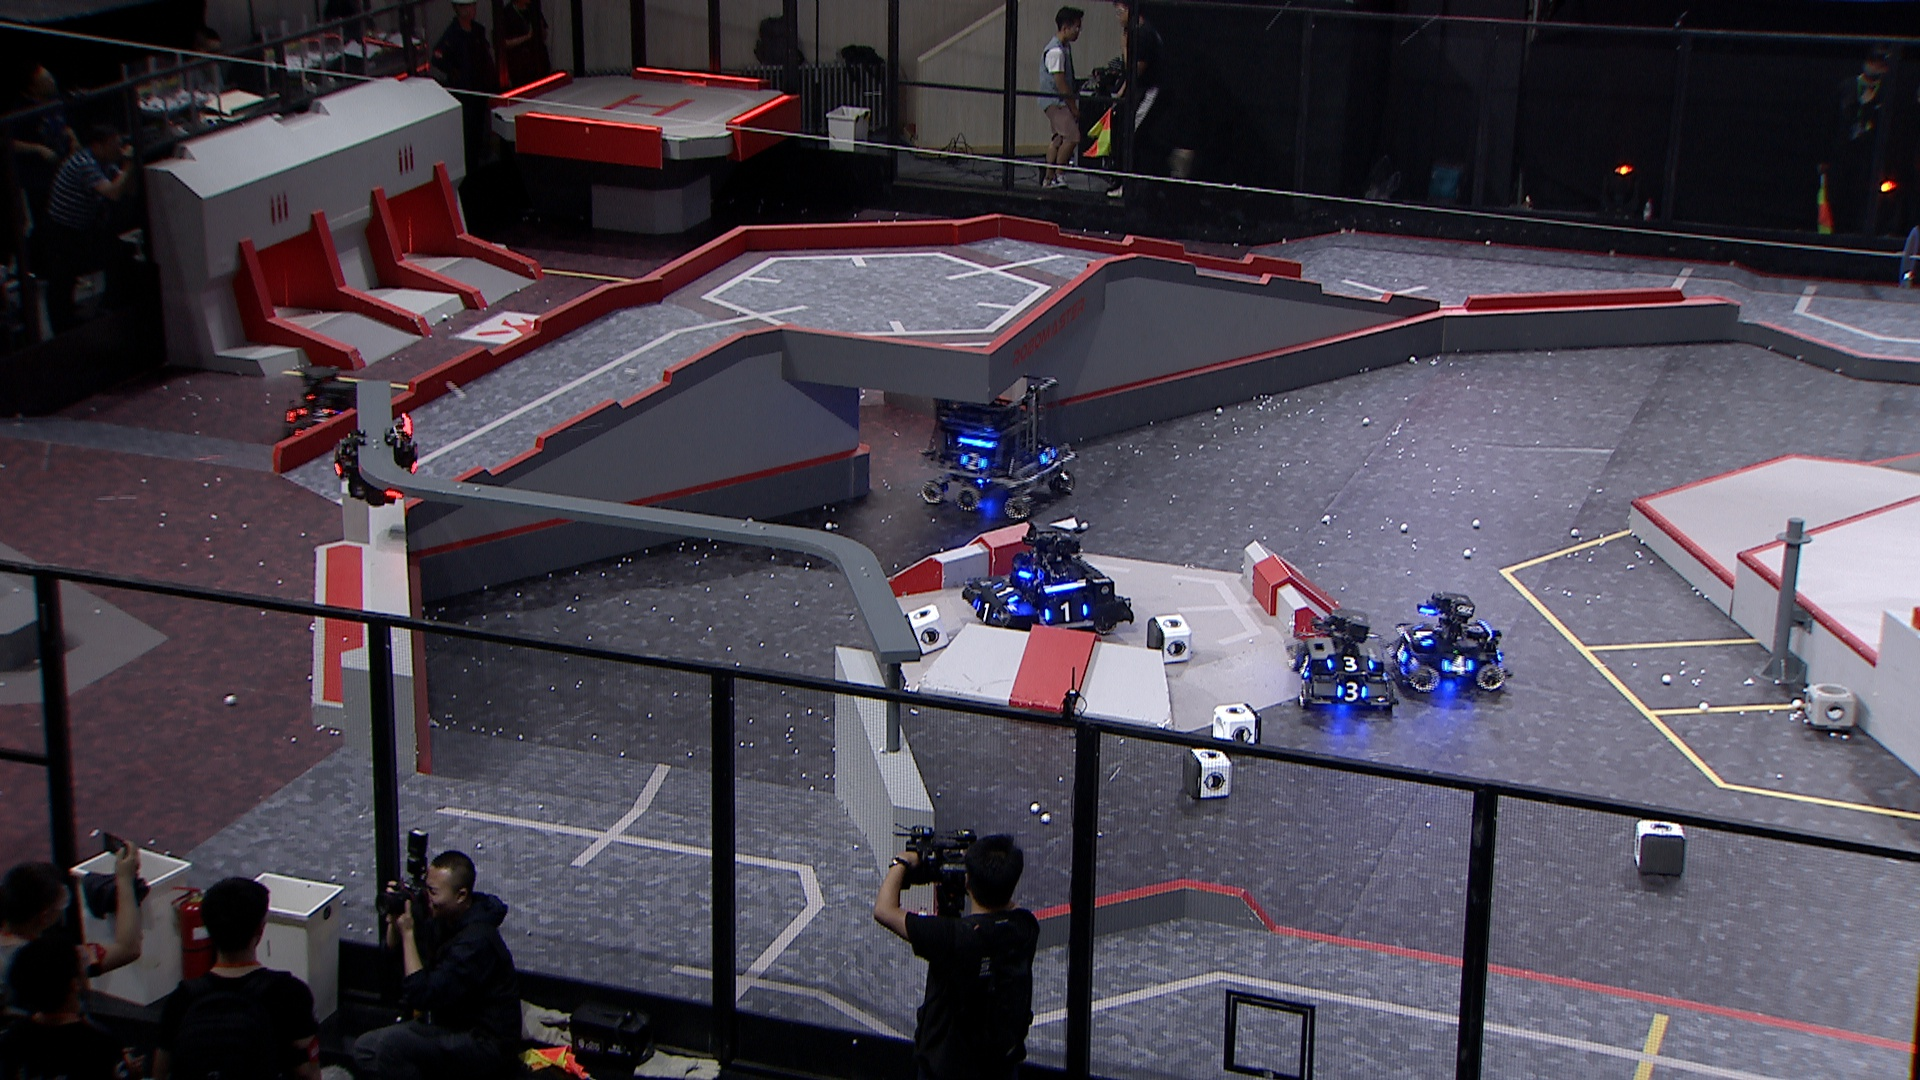armor: (1043, 600, 1091, 624), (1324, 655, 1375, 673), (973, 599, 1005, 626), (1443, 655, 1474, 678), (992, 583, 1021, 605), (1337, 680, 1367, 702), (295, 405, 339, 419), (1410, 622, 1433, 647), (961, 452, 988, 472), (1391, 641, 1411, 666), (1039, 447, 1058, 469), (1298, 654, 1313, 679)
car: (918, 371, 1083, 524), (961, 526, 1138, 638), (1390, 591, 1514, 694), (1292, 604, 1399, 717), (278, 377, 389, 458), (278, 363, 380, 443)
watcher: (334, 409, 419, 512)
